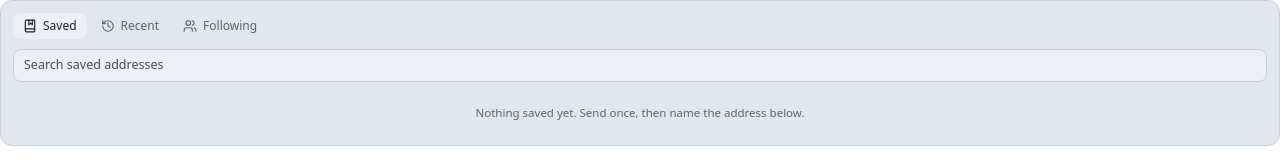
Scenario: what it offers › never offers your own address
Click the button "Recent".
click(130, 26)  # box x1=91 y1=13 x2=169 y2=39
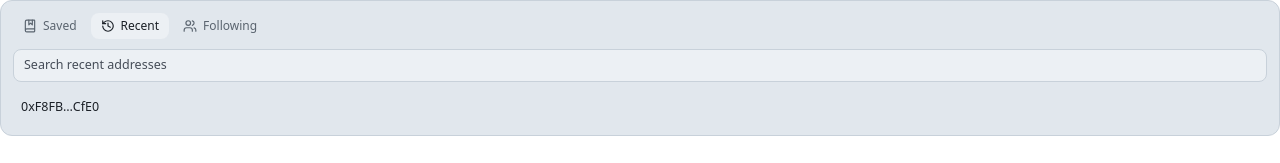
Expected: the text "0xF8FB…CfE0" is shown, x1=21 y1=98 x2=99 y2=117
